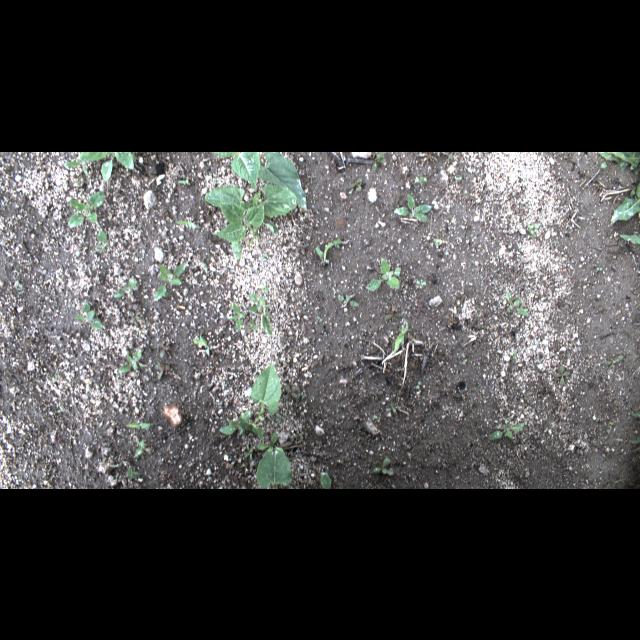crop: (206, 184, 296, 260), (214, 151, 306, 209), (240, 362, 282, 438), (610, 180, 640, 226), (256, 450, 290, 488), (596, 151, 638, 173), (620, 233, 640, 243)
weed: (64, 151, 136, 179), (154, 262, 186, 302), (69, 191, 105, 225), (393, 192, 432, 222), (366, 256, 400, 290), (250, 292, 272, 336), (220, 410, 250, 440), (75, 299, 102, 329), (314, 240, 342, 264), (487, 421, 523, 439), (257, 432, 285, 454), (118, 348, 142, 372), (506, 290, 528, 316), (394, 316, 408, 356), (109, 459, 139, 477), (91, 228, 109, 256), (192, 330, 210, 356), (230, 300, 244, 332), (114, 277, 136, 297), (372, 458, 393, 476), (133, 439, 151, 457), (554, 364, 570, 384), (154, 362, 170, 380), (386, 304, 402, 320), (283, 384, 299, 400), (372, 151, 386, 169), (526, 222, 540, 238), (338, 295, 359, 305), (157, 342, 170, 358), (418, 151, 438, 161), (176, 221, 200, 229), (321, 472, 332, 488), (351, 176, 362, 192), (604, 356, 624, 364), (126, 423, 152, 429), (129, 310, 141, 322), (414, 175, 428, 185), (245, 443, 253, 459), (248, 318, 258, 329), (443, 152, 461, 158), (416, 278, 426, 288), (433, 237, 443, 247), (510, 349, 518, 359), (629, 436, 639, 444), (261, 285, 269, 293), (416, 380, 422, 390), (630, 410, 640, 416), (260, 253, 268, 259), (391, 402, 395, 412), (462, 358, 468, 364), (318, 316, 322, 322)
